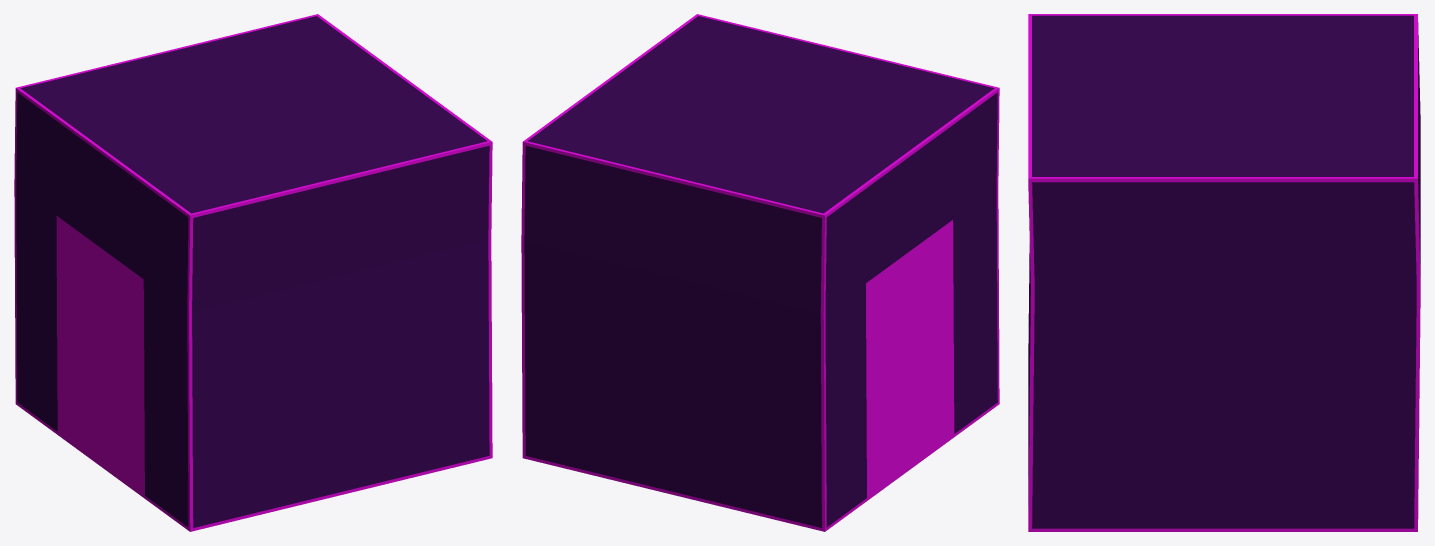
The model's file is Building.fbx.
The picture shows the model from 3 angles, left to right: view 1: azimuth 30°, elevation 25°; view 2: azimuth 150°, elevation 25°; view 3: azimuth 270°, elevation 25°; orthographic projection. The views are drawn at different scales.
Parts seen in each view (by area): view 1: Cube.002; view 2: Cube.002; view 3: Cube.002.
Boxes of the visible parts, x1=… form: Cube.002: x1=14, y1=14, x2=492, y2=531; Cube.002: x1=521, y1=14, x2=999, y2=531; Cube.002: x1=1028, y1=14, x2=1420, y2=531.
Bounding box in the file's own units: 200 × 200 × 201.
